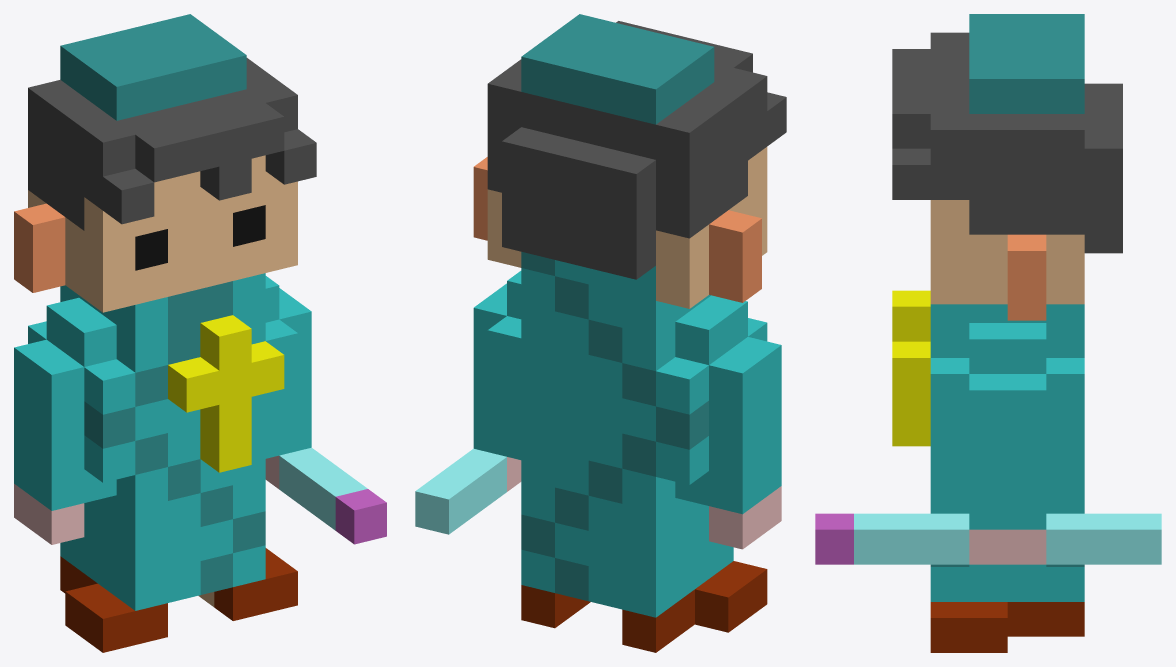
File: priest.fbx
The picture shows the model from 3 angles, left to right: view 1: azimuth 30°, elevation 25°; view 2: azimuth 150°, elevation 25°; view 3: azimuth 270°, elevation 25°; orthographic projection. The views are drawn at different scales.
Visible parts, largest first — view 1: 对象; view 2: 对象; view 3: 对象.
Part boxes in pixels (box(x1,y1,x2,y2)): 对象: box(14, 14, 386, 652); 对象: box(415, 14, 786, 652); 对象: box(815, 14, 1161, 652).
Bounding box in the file's own units: 8 × 16 × 9.
1 material, 1 textured.
